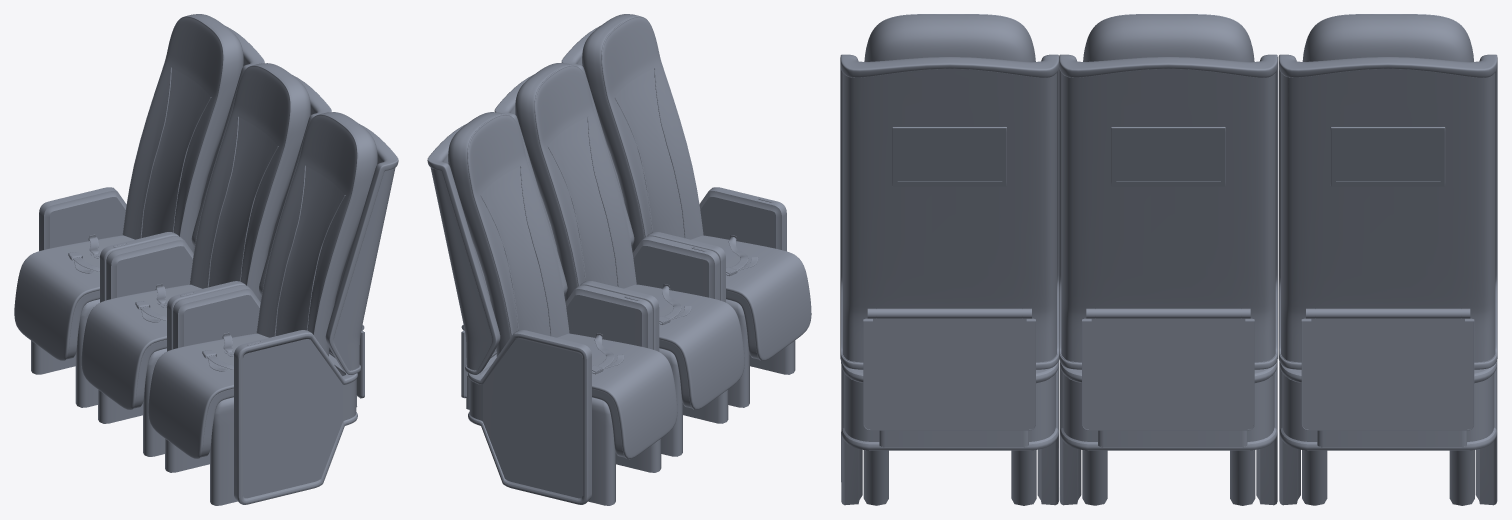
The model's file is seat-economy.glb.
3 views of the same model, side by side, from view 1: azimuth 30°, elevation 25°; view 2: azimuth 150°, elevation 25°; view 3: azimuth 270°, elevation 25° (orthographic). The views are drawn at different scales.
Visible parts, largest first — view 1: Economy-Class-Seats; view 2: Economy-Class-Seats; view 3: Economy-Class-Seats.
Boxes of the visible parts, left/top/right/bottom form: Economy-Class-Seats: left=14, top=14, right=398, bottom=505; Economy-Class-Seats: left=427, top=14, right=811, bottom=505; Economy-Class-Seats: left=840, top=14, right=1497, bottom=505.
Bounding box in the file's own units: 0.8359 × 1.32 × 1.47.
